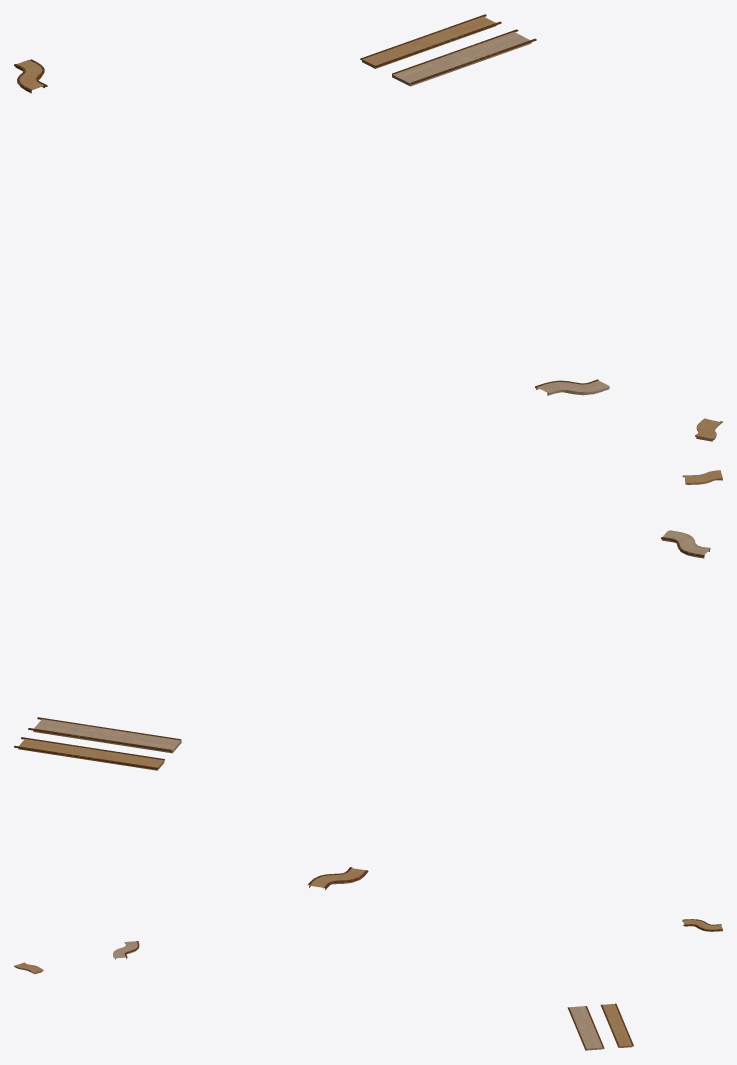
Rendered from objects_un_t05tile04_04.gltf.
3 views of the same model, one above another, from view 1: azimuth 30°, elevation 25°; view 2: azimuth 150°, elevation 25°; view 3: azimuth 270°, elevation 25° (orthographic). The views are drawn at different scales.
Parts seen in each view (by area): view 1: um_objects_un_t05tile04_model_objects_un_t05tile04_modelShap; view 2: um_objects_un_t05tile04_model_objects_un_t05tile04_modelShap; view 3: um_objects_un_t05tile04_model_objects_un_t05tile04_modelShap.
Part boxes in pixels (x1,y1,x2,y2): um_objects_un_t05tile04_model_objects_un_t05tile04_modelShap: (14, 14, 722, 441); um_objects_un_t05tile04_model_objects_un_t05tile04_modelShap: (14, 470, 722, 890); um_objects_un_t05tile04_model_objects_un_t05tile04_modelShap: (14, 919, 722, 1050).
Size of the model in its own units: 54.41 by 0.7169 by 123.
Materials: 1 (1 with a texture image).
